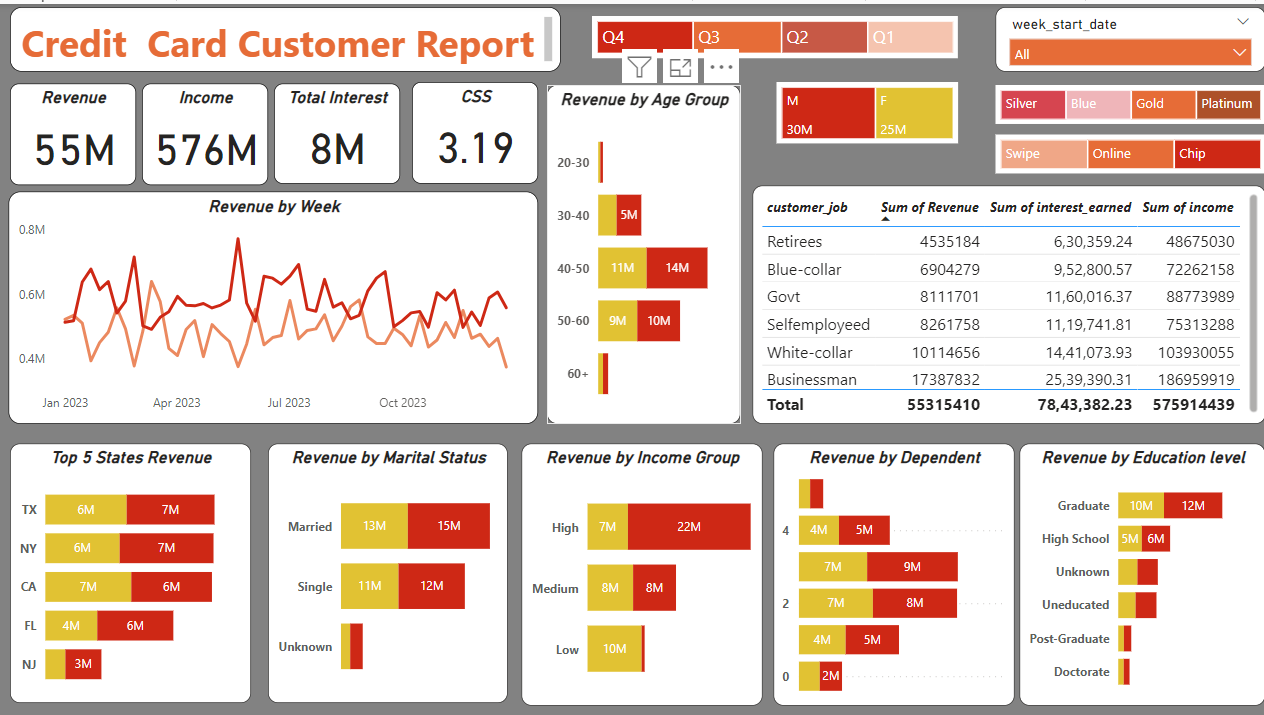

The page's visual inventory and layout, read from the dashboard file:
{"tool":"powerbi","page":{"name":"CC customer","canvas":[1280,720],"ordinal":2},"visuals":[{"type":"textbox","box":[12.1,3,555.7,65.1],"z":0},{"type":"barChart","title":"Revenue by Income Group","fields":{"Category":["public cust_detail.IncomeGroup"],"Y":["Sum(public cc_detail.Revenue)"],"Series":["public cust_detail.gender"]},"box":[528.5,443.7,243,265],"z":1000},{"type":"tableEx","fields":{"Values":["public cust_detail.customer_job","Sum(public cc_detail.Revenue)","Sum(public cc_detail.interest_earned)","Sum(public cust_detail.income)"]},"box":[761.6,183.2,517.9,240.8],"z":2000},{"type":"card","title":"Total Revenue","fields":{"Values":["Sum(public cc_detail.Revenue)"]},"box":[12.1,80.3,127,103],"z":3000},{"type":"card","title":"Total Income","fields":{"Values":["Sum(public cust_detail.income)"]},"box":[145.4,80.3,127.2,103],"z":4000},{"type":"card","title":"Total Interest","fields":{"Values":["Sum(public cc_detail.interest_earned)"]},"box":[278.6,80.3,127.2,101.5],"z":5000},{"type":"card","title":"CSS","fields":{"Values":["Avg(public cust_detail.cust_satisfaction_score)"]},"box":[417.9,78.7,127.2,103],"z":6000},{"type":"slicer","fields":{"Values":["public cc_detail.week_start_date"]},"box":[1006.9,3,272.6,65.1],"z":7000},{"type":"treemap","fields":{"Group":["public cc_detail.qtr"],"Values":["Avg(public cc_detail.client_num)"]},"box":[599.6,12.1,369.5,42.4],"z":8000},{"type":"treemap","fields":{"Values":["Avg(public cc_detail.client_num)"],"Group":["public cc_detail.card_category"]},"box":[1006.9,81.8,272.6,39.4],"z":9000},{"type":"lineChart","title":" Revenue by Week","fields":{"Y":["Sum(public cc_detail.Revenue)"],"Series":["public cust_detail.gender"],"Category":["public cc_detail.week_start_date.Variation.Date Hierarchy.Year","public cc_detail.week_start_date.Variation.Date Hierarchy.Month","public cc_detail.week_start_date.Variation.Date Hierarchy.Day"]},"box":[10.6,189.3,534.5,234.7],"z":10000},{"type":"treemap","fields":{"Group":["public cust_detail.gender"],"Values":["Sum(public cc_detail.Revenue)"]},"box":[785.9,78.7,183.2,62.1],"z":11000},{"type":"barChart","title":"Revenue by Age Group","fields":{"Category":["public cust_detail.AgeGroup"],"Y":["Sum(public cc_detail.Revenue)"],"Series":["public cust_detail.gender"]},"box":[554.2,81.8,195.3,342.2],"z":12000},{"type":"barChart","title":"Revenue by Dependent","fields":{"Category":["public cust_detail.dependent_count"],"Y":["Sum(public cc_detail.Revenue)"],"Series":["public cust_detail.gender"]},"box":[782.8,443.7,243,265],"z":13000},{"type":"barChart","title":"Revenue by Education level","fields":{"Category":["public cust_detail.education_level"],"Y":["Sum(public cc_detail.Revenue)"],"Series":["public cust_detail.gender"]},"box":[1031.2,443.7,248.3,265],"z":14000},{"type":"barChart","title":"Top 5 States Revenue","fields":{"Y":["Sum(public cc_detail.Revenue)"],"Category":["public cust_detail.state_cd"],"Series":["public cust_detail.gender"]},"box":[12.1,443.7,243,262],"z":15000},{"type":"barChart","title":"Revenue by Marital Status","fields":{"Category":["public cust_detail.marital_status"],"Y":["Sum(public cc_detail.Revenue)"],"Series":["public cust_detail.gender"]},"box":[272.6,443.7,242.3,262],"z":16000},{"type":"treemap","fields":{"Values":["Avg(public cc_detail.client_num)"],"Group":["public cc_detail.use_chip"]},"box":[1006.9,131.7,272.6,39.4],"z":17000}]}

Visuals, with their boxes in screenshot pixels (x1, y1, x2, y2), scaled from the page's 1280x720 canvas onto the 1264x715 screenshot:
textbox: bbox=[12, 3, 561, 68]
"Revenue by Income Group" barChart: bbox=[522, 441, 762, 704]
tableEx - public cust_detail.customer_job x Sum(public cc_detail.Revenue): bbox=[752, 182, 1263, 421]
"Total Revenue" card: bbox=[12, 80, 137, 182]
"Total Income" card: bbox=[144, 80, 269, 182]
"Total Interest" card: bbox=[275, 80, 401, 181]
"CSS" card: bbox=[413, 78, 538, 180]
slicer - public cc_detail.week_start_date: bbox=[994, 3, 1263, 68]
treemap - public cc_detail.qtr x Avg(public cc_detail.client_num): bbox=[592, 12, 957, 54]
treemap - Avg(public cc_detail.client_num) x public cc_detail.card_category: bbox=[994, 81, 1263, 120]
" Revenue by Week" lineChart: bbox=[10, 188, 538, 421]
treemap - public cust_detail.gender x Sum(public cc_detail.Revenue): bbox=[776, 78, 957, 140]
"Revenue by Age Group" barChart: bbox=[547, 81, 740, 421]
"Revenue by Dependent" barChart: bbox=[773, 441, 1013, 704]
"Revenue by Education level" barChart: bbox=[1018, 441, 1263, 704]
"Top 5 States Revenue" barChart: bbox=[12, 441, 252, 701]
"Revenue by Marital Status" barChart: bbox=[269, 441, 508, 701]
treemap - Avg(public cc_detail.client_num) x public cc_detail.use_chip: bbox=[994, 131, 1263, 170]
